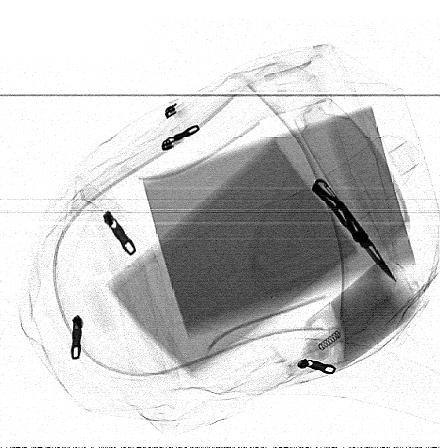Knife: (311, 177, 398, 285)
